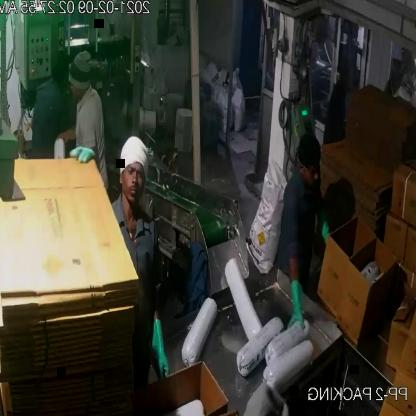glove: (146, 315, 172, 385), (282, 280, 308, 334), (315, 204, 337, 253)
